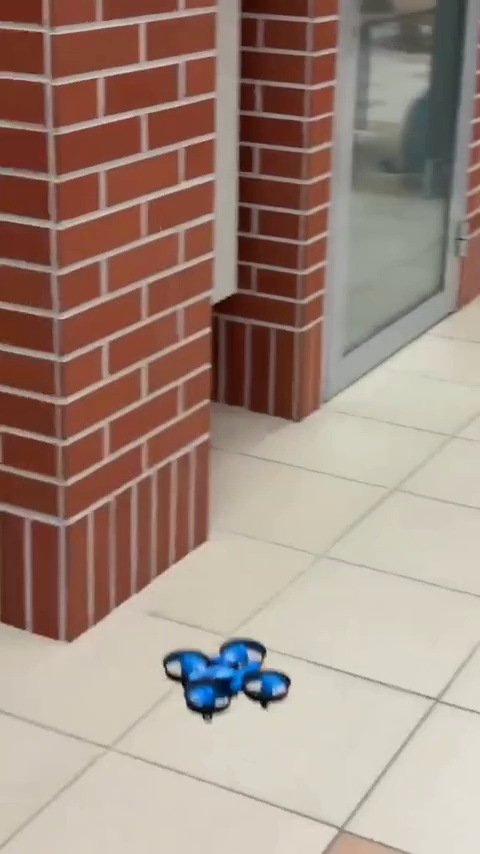drone: (155, 643, 297, 725)
